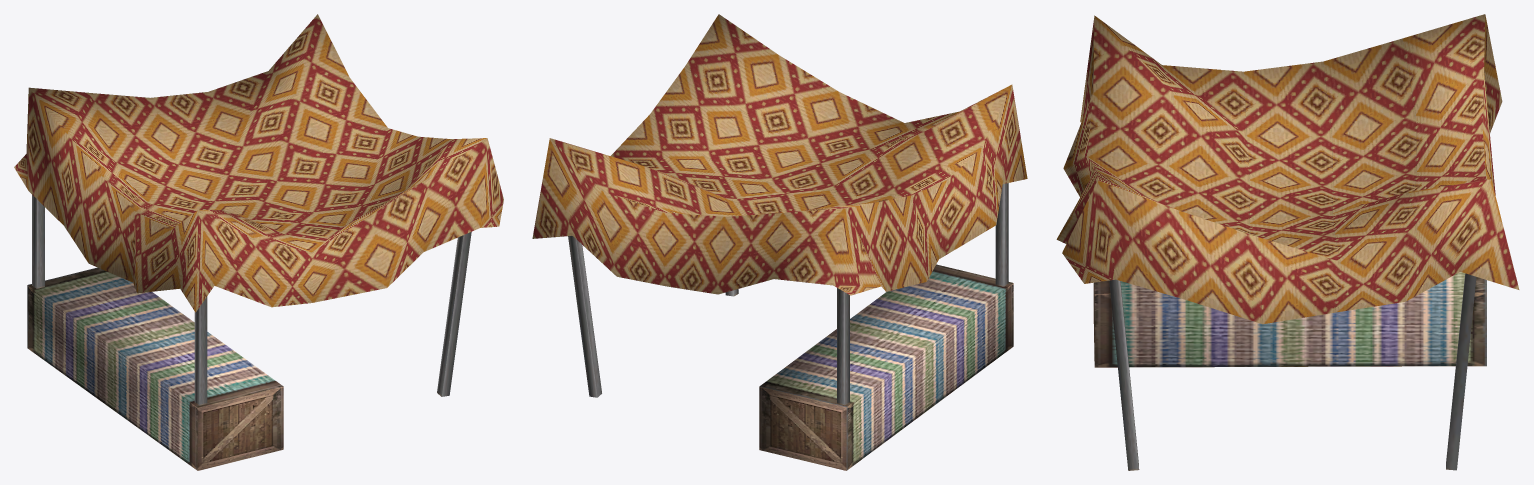
Rendered from Market_Canopy03.glb.
The picture shows the model from 3 angles, left to right: view 1: azimuth 30°, elevation 25°; view 2: azimuth 150°, elevation 25°; view 3: azimuth 270°, elevation 25°; orthographic projection. The views are drawn at different scales.
Visible parts, largest first — view 1: MARKET_CANOPY03; view 2: MARKET_CANOPY03; view 3: MARKET_CANOPY03.
Boxes of the visible parts, x1,y1,x2,y2 form: MARKET_CANOPY03: (14, 14, 503, 470); MARKET_CANOPY03: (532, 14, 1027, 470); MARKET_CANOPY03: (1056, 14, 1519, 470).
Size of the model in its own units: 4.16 by 3.08 by 4.23.
1 material, 1 textured.
